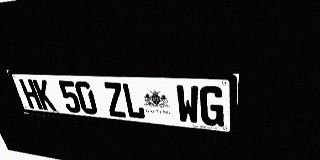0: (74, 81, 98, 115)
5: (58, 80, 82, 113)
G: (200, 85, 225, 127)
H: (19, 79, 43, 110)
K: (32, 79, 57, 111)
L: (121, 83, 146, 119)
W: (175, 85, 200, 125)
Z: (102, 82, 127, 118)
